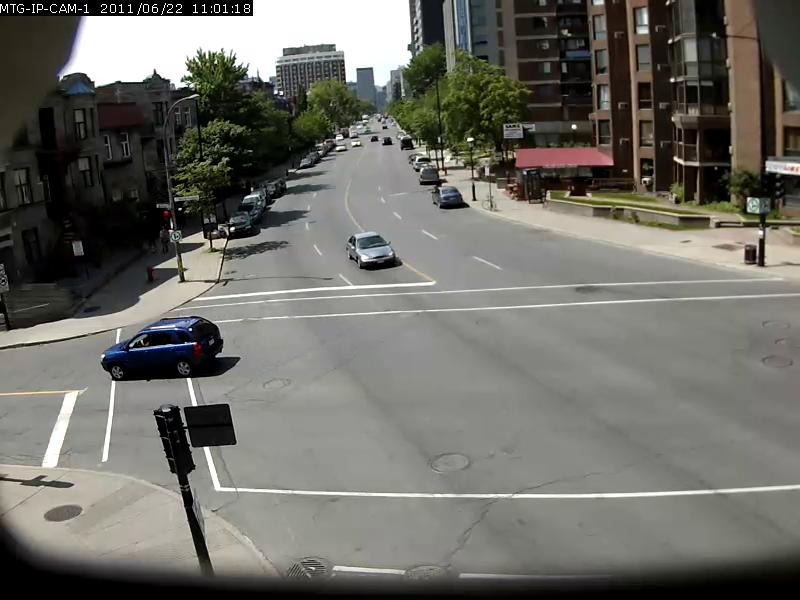Car: (98, 316, 225, 380), (345, 231, 399, 268)
